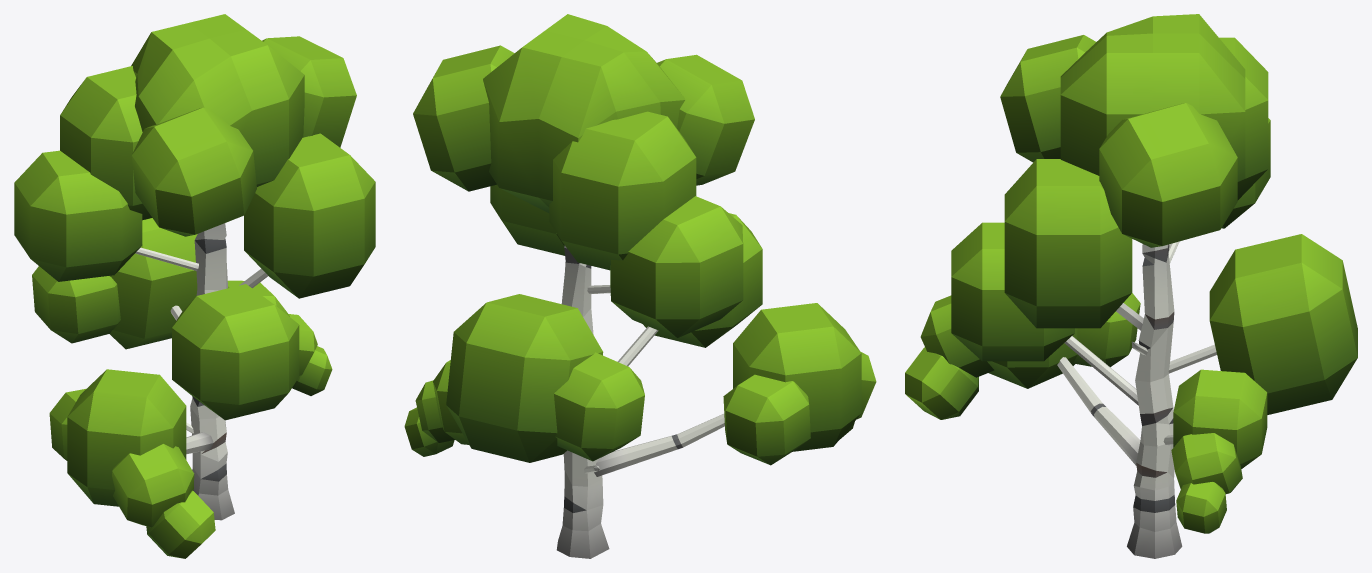
Rendered from SilverBirchTreeMedium.fbx.
The picture shows the model from 3 angles, left to right: view 1: azimuth 30°, elevation 25°; view 2: azimuth 150°, elevation 25°; view 3: azimuth 270°, elevation 25°; orthographic projection. The views are drawn at different scales.
Parts seen in each view (by area): view 1: SilverBirchTreeMedium; view 2: SilverBirchTreeMedium; view 3: SilverBirchTreeMedium.
Part boxes in pixels (x1,y1,x2,y2): SilverBirchTreeMedium: (14, 14, 375, 558); SilverBirchTreeMedium: (404, 14, 876, 558); SilverBirchTreeMedium: (905, 14, 1357, 558).
Size of the model in its own units: 383 by 513 by 410.
